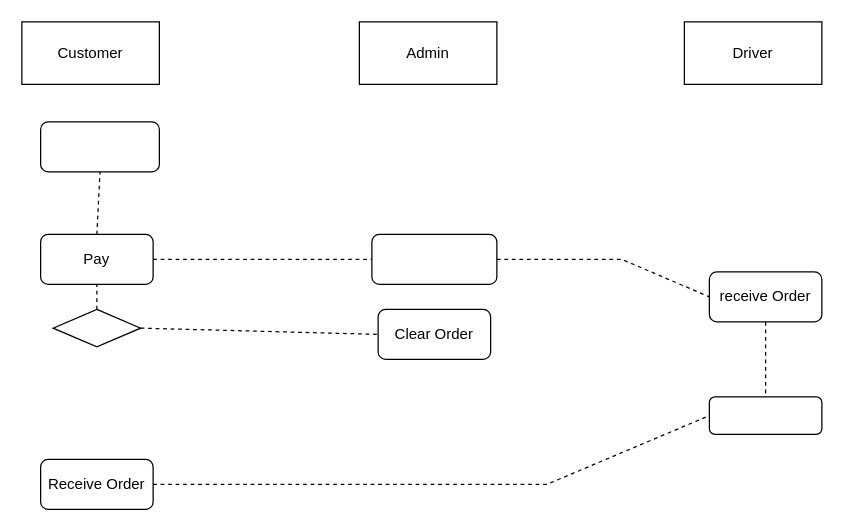
The diagram is 844 pixels wide and 531 high, and some of its shapes have lost their labels. The shapes that lost their labels are listed below. From the top down, each one's centre as x and y in pixels, then its label:
At (x=99, y=146): "Place order".
At (x=434, y=258): "Process order".
At (x=96, y=327): "cancel".
At (x=765, y=415): "Deliver order".
